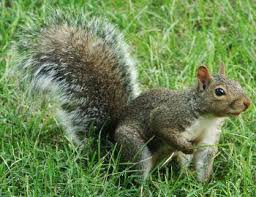squirrel: (23, 18, 251, 178)
